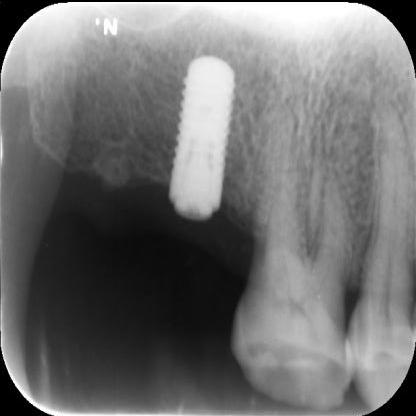ITI: (162, 39, 245, 219)
